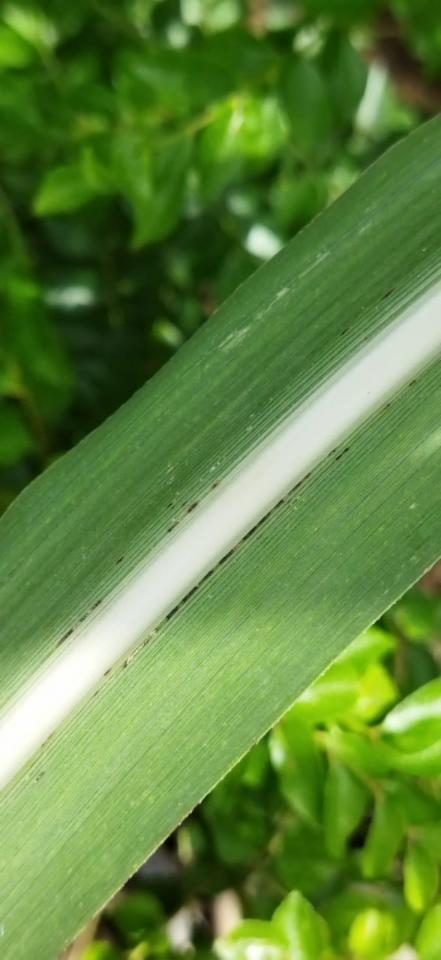Rust: (119, 464, 319, 673), (163, 476, 222, 537), (51, 597, 104, 651), (374, 284, 399, 307), (326, 444, 352, 465), (39, 730, 57, 749), (32, 769, 47, 784), (112, 554, 127, 568), (163, 500, 177, 513), (101, 666, 115, 679), (338, 326, 353, 338), (406, 377, 418, 389), (379, 402, 392, 413), (92, 688, 101, 699)
